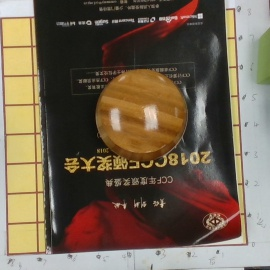chess: (96, 69, 189, 161)
